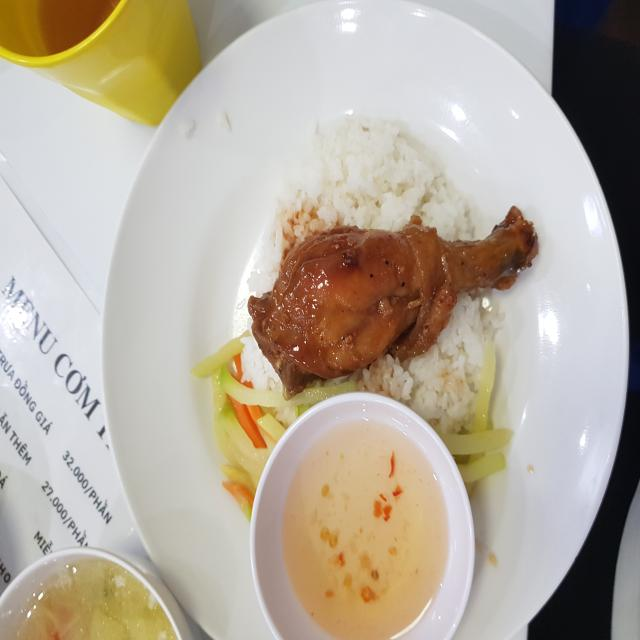com: (234, 117, 490, 334), (353, 293, 505, 434), (241, 340, 280, 389)
ga chien: (248, 208, 537, 394)
nuoc mam: (282, 423, 448, 640)
rau: (191, 331, 364, 520), (440, 344, 512, 486)
